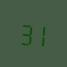one: (33, 20, 46, 47)
three: (19, 19, 32, 46)
